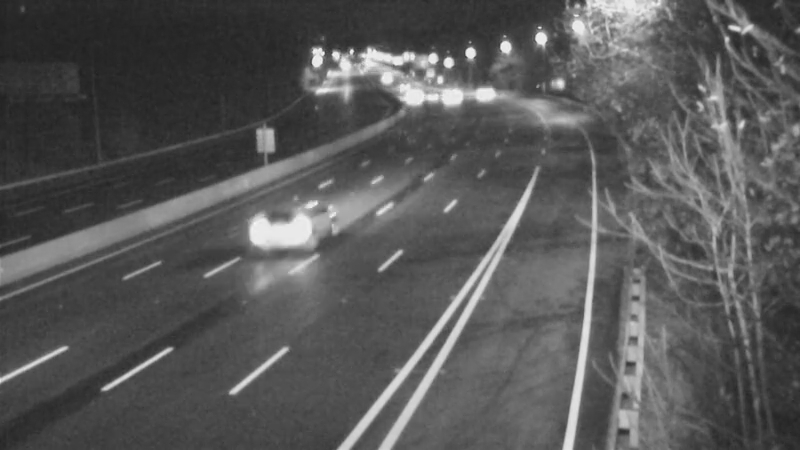vehicle: (235, 202, 315, 282), (363, 53, 413, 103), (379, 58, 429, 108), (461, 69, 511, 119), (429, 72, 479, 122), (406, 72, 456, 122), (386, 77, 436, 127)
